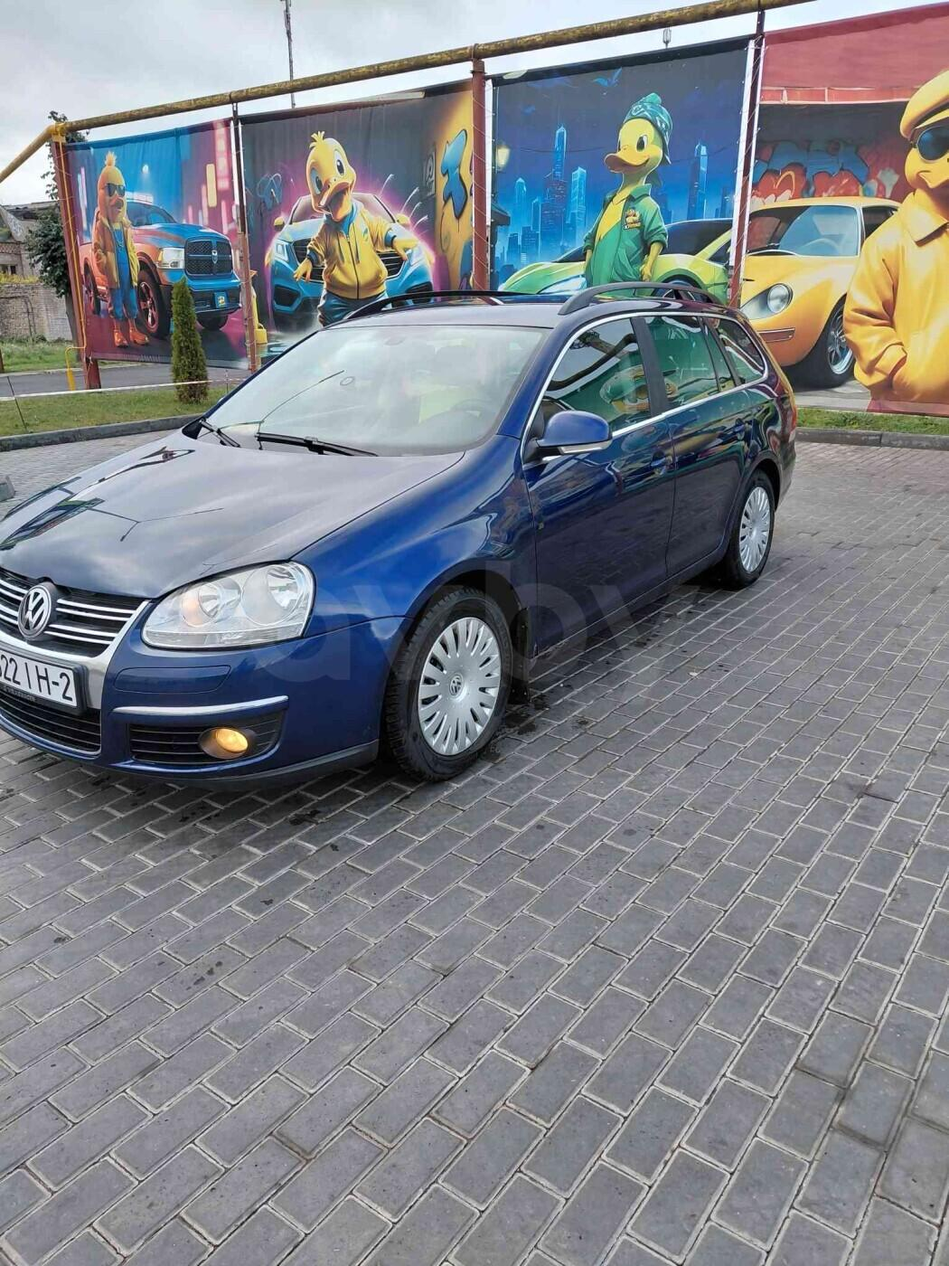Golf_2003-2009: (0, 285, 811, 803)
